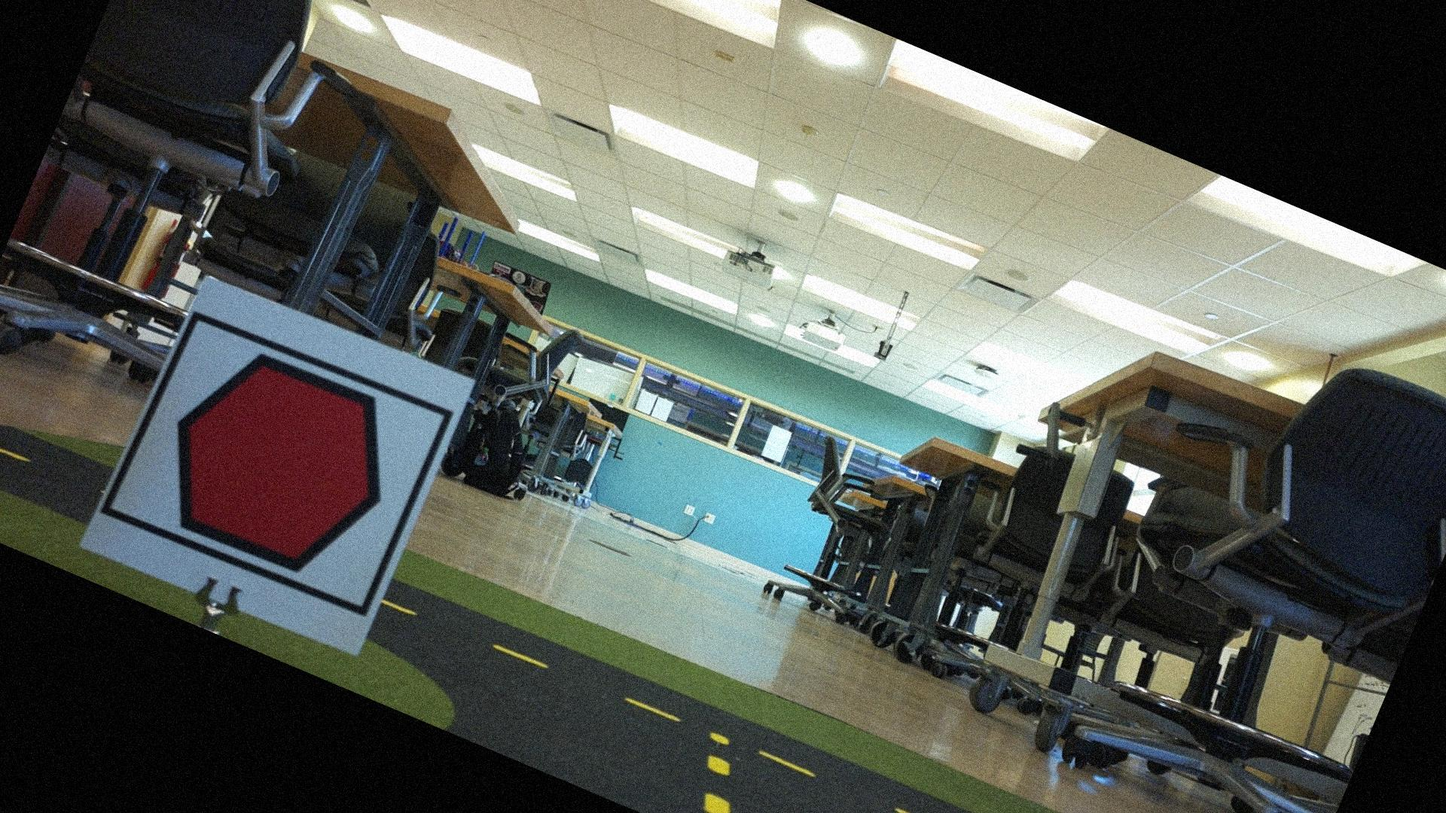stop: (124, 319, 431, 604)
yellowline: (682, 729, 758, 812)
